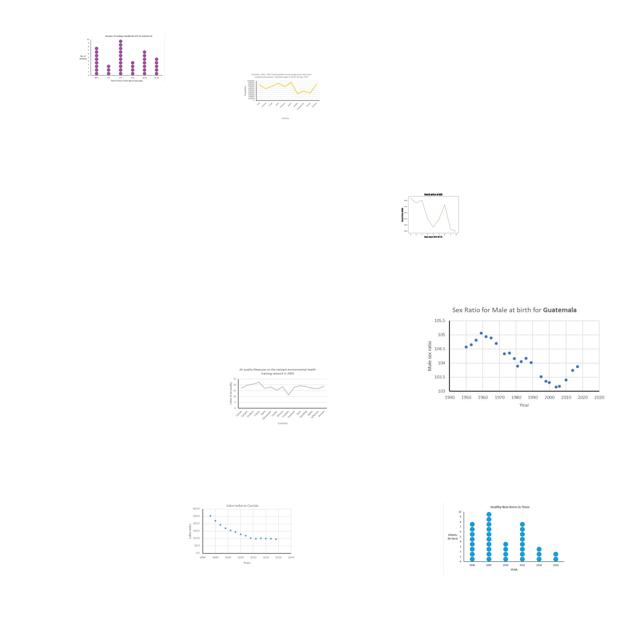Graph: (420, 302, 609, 414), (443, 502, 567, 575), (188, 503, 295, 565), (227, 366, 329, 426), (77, 33, 165, 84), (242, 72, 321, 120), (400, 190, 465, 239)
